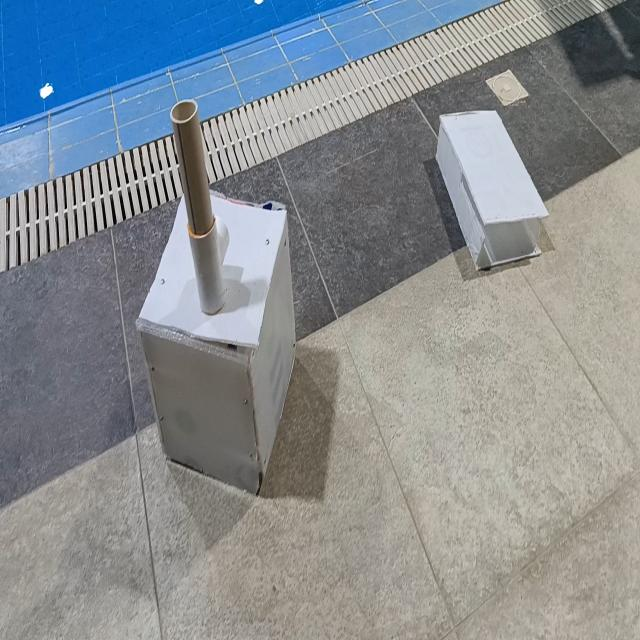Cube: (135, 190, 297, 496)
Cuboid: (435, 108, 549, 272)
